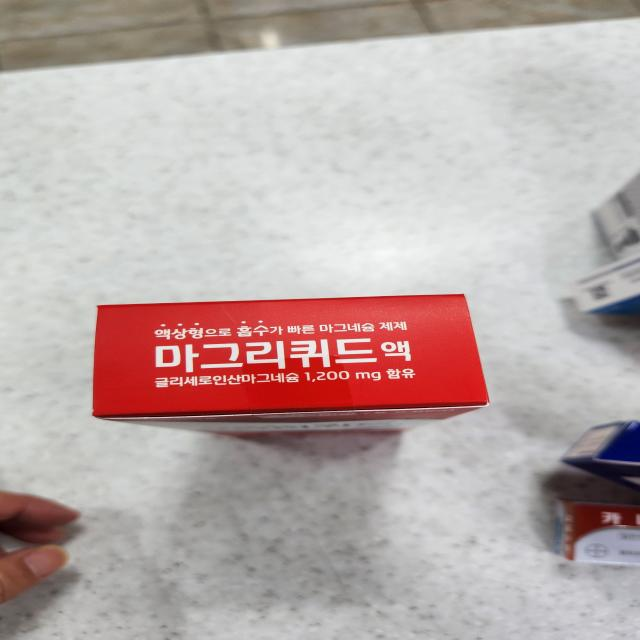box: (94, 297, 488, 430)
